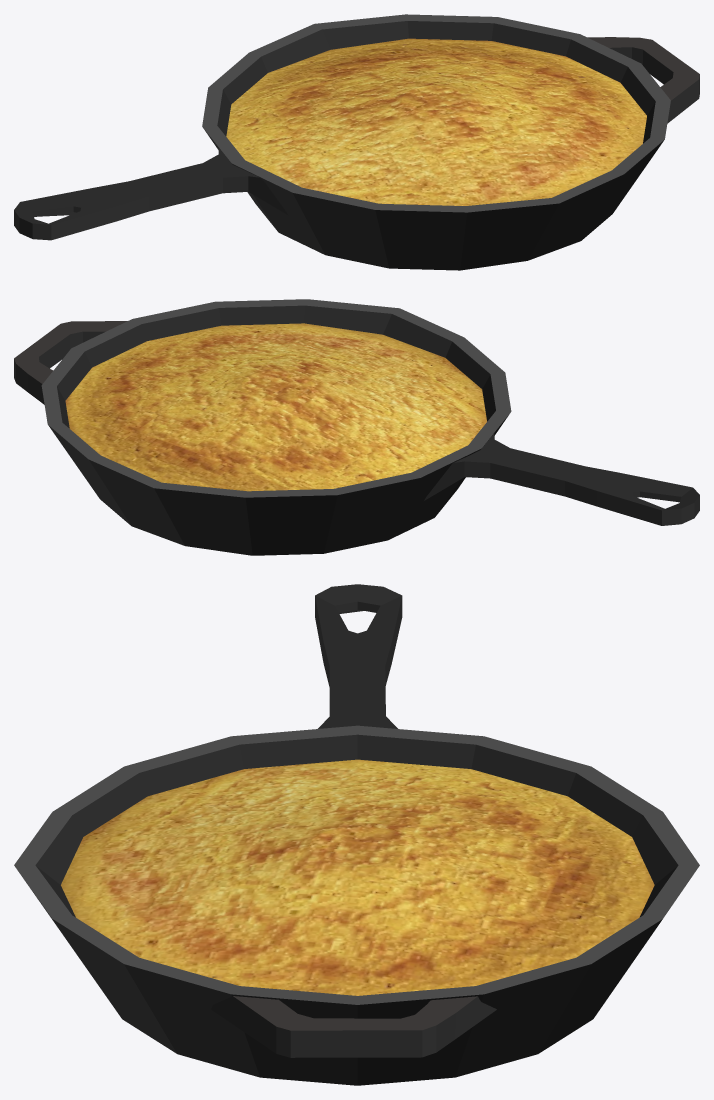
Rendered from WorldItem_CastIronSkilletCornbread.fbx.
3 renders of one model, top to bottom at view 1: azimuth 30°, elevation 25°; view 2: azimuth 150°, elevation 25°; view 3: azimuth 270°, elevation 25°, orthographic. The views are drawn at different scales.
Parts seen in each view (by area): view 1: ZomboidCastIronSkillet; view 2: ZomboidCastIronSkillet; view 3: ZomboidCastIronSkillet.
Boxes of the visible parts, left/top/right/bottom form: ZomboidCastIronSkillet: left=14, top=14, right=699, bottom=270; ZomboidCastIronSkillet: left=14, top=299, right=699, bottom=555; ZomboidCastIronSkillet: left=14, top=584, right=699, bottom=1085.
Bounding box in the file's own units: 0.3689 × 0.0502 × 0.2388.
